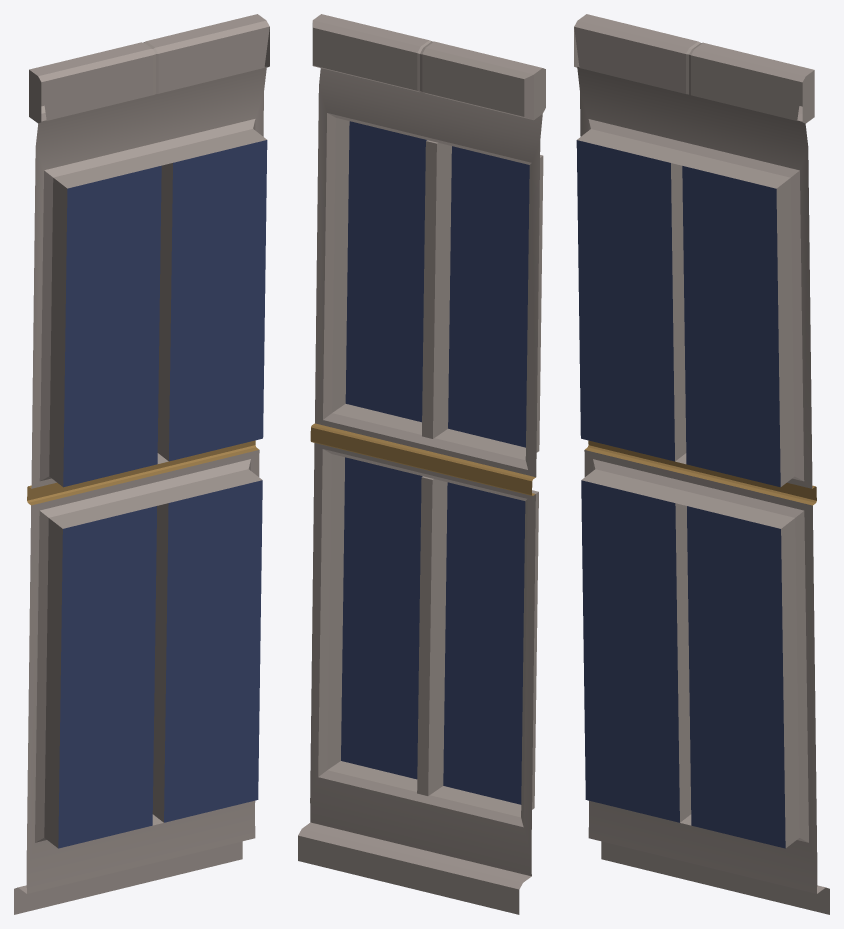
File: WallTallWindow.fbx
3 renders of one model, left to right at view 1: azimuth 30°, elevation 25°; view 2: azimuth 150°, elevation 25°; view 3: azimuth 330°, elevation 25°, orthographic. The views are drawn at different scales.
Visible parts, largest first — view 1: Plain_Wall_Tall1; view 2: Plain_Wall_Tall1; view 3: Plain_Wall_Tall1.
Boxes of the visible parts, left/top/right/bottom form: Plain_Wall_Tall1: left=14, top=14, right=269, bottom=914; Plain_Wall_Tall1: left=298, top=14, right=545, bottom=914; Plain_Wall_Tall1: left=574, top=14, right=829, bottom=914.
Size of the model in its own units: 1 by 3.58 by 0.296.
